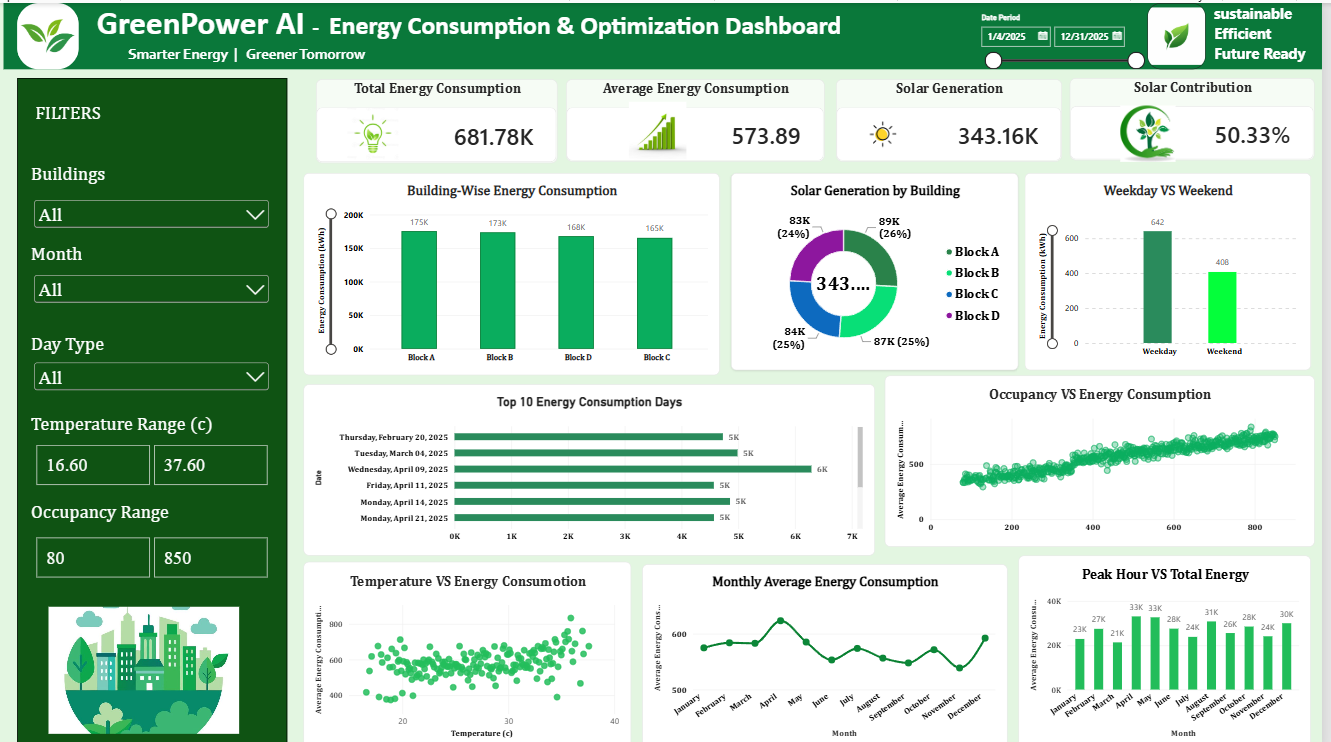

Layout of this report page (visuals, bound fields, positions):
{"tool":"powerbi","page":{"name":"Page 1","canvas":[1920,1080],"ordinal":0},"visuals":[{"type":"shape","box":[30.9,109.1,390.9,970.9],"z":0},{"type":"cardVisual","title":"Total Energy Consumption","fields":{"Data":["Sum(public energy_data.energy_consumption_kwh)"]},"box":[463.3,110.4,349.3,121.2],"z":1000},{"type":"clusteredColumnChart","title":"Building-Wise Energy Consumption","fields":{"Category":["public energy_data.building"],"Y":["Sum(public energy_data.energy_consumption_kwh)"]},"box":[445.2,246.1,602.6,293.2],"z":2000},{"type":"clusteredColumnChart","title":"Weekday VS Weekend","fields":{"Category":["public energy_data.day_type"],"Y":["Avg(public energy_data.energy_consumption_kwh)"]},"box":[1489.4,246.1,414.4,285.9],"z":3000},{"type":"scatterChart","title":"Temperature VS Energy Consumotion","fields":{"X":["public energy_data.temperature_c"],"Y":["Avg(public energy_data.energy_consumption_kwh)"]},"box":[445.2,808.9,474.1,271.4],"z":4000},{"type":"scatterChart","title":"Occupancy VS Energy Consumption","fields":{"X":["public energy_data.occupancy"],"Y":["Avg(public energy_data.energy_consumption_kwh)"]},"box":[1286.7,539.3,622.5,247.9],"z":5000},{"type":"columnChart","title":"Peak Hour VS Total Energy","fields":{"Category":["public energy_data.date.Variation.Date Hierarchy.Month"],"Y":["Sum(public energy_data.peak_hour_consumption_kwh)"]},"box":[1480.3,799.9,423.5,280.5],"z":6000},{"type":"donutChart","title":"Solar Generation by Building","fields":{"Category":["public energy_data.building"],"Y":["Sum(public energy_data.solar_generation_kwh)"]},"box":[1064.1,246.1,416.2,285.9],"z":7000},{"type":"lineChart","title":"Monthly Average Energy Consumption","fields":{"Category":["public energy_data.date.Variation.Date Hierarchy.Month"],"Y":["Avg(public energy_data.energy_consumption_kwh)"]},"box":[935.6,812.5,528.4,267.8],"z":8000},{"type":"clusteredBarChart","title":"Top 10 Energy Consumption Days","fields":{"Category":["public energy_data.date"],"Y":["Sum(public energy_data.energy_consumption_kwh)"]},"box":[445.2,551.9,827,247.9],"z":9000},{"type":"textbox","box":[1140.1,799.9,414,227],"z":10000},{"type":"textbox","box":[10.9,0,1909.2,95.9],"z":11000},{"type":"image","box":[30.8,0,88.7,95.9],"z":12000},{"type":"textbox","box":[164.7,61.5,595.4,34.4],"z":13000},{"type":"textbox","box":[1751.8,0,157.4,95.9],"z":14000},{"type":"image","box":[1666.7,0,85.1,95.9],"z":15000},{"type":"slicer","fields":{"Values":["public energy_data.date"]},"box":[1418.8,14.5,247.9,81.4],"z":16000},{"type":"image","box":[501.3,152,88.7,74.2],"z":17000},{"type":"cardVisual","title":"Average Energy Consumption","fields":{"Data":["Avg(public energy_data.energy_consumption_kwh)"]},"box":[825.2,110.4,374.6,119.4],"z":18000},{"type":"image","box":[913.9,143,88.7,83.2],"z":19000},{"type":"cardVisual","title":"Solar Generation","fields":{"Data":["Sum(public energy_data.solar_generation_kwh)"]},"box":[1216.1,110.4,327.5,119.4],"z":20000},{"type":"image","box":[1237.8,146.6,95.9,85.1],"z":21000},{"type":"cardVisual","title":"Solar Contribution","fields":{"Data":["public energy_data.Solar Contribution %"]},"box":[1554.5,108.6,354.7,119.4],"z":22000},{"type":"image","box":[1619.6,148.4,95.9,81.4],"z":23000},{"type":"textbox","box":[30.9,143.6,369.1,61.8],"z":24000},{"type":"textbox","box":[50.9,232.7,349.1,74.5],"z":25000},{"type":"slicer","fields":{"Values":["public energy_data.building"]},"box":[50.9,280,349.1,69.1],"z":26000},{"type":"slicer","fields":{"Values":["public energy_data.date.Variation.Date Hierarchy.Month"]},"box":[50.9,389.1,349.1,76.4],"z":27000},{"type":"textbox","box":[50.9,349.1,349.1,40],"z":28000},{"type":"textbox","box":[50.9,480,349.1,50.9],"z":29000},{"type":"slicer","fields":{"Values":["public energy_data.day_type"]},"box":[50.9,516.4,349.1,63.6],"z":30000},{"type":"textbox","box":[50.9,594.5,349.1,54.5],"z":31000},{"type":"slicer","fields":{"Values":["public energy_data.temperature_c"]},"box":[50,636,350,72],"z":32000},{"type":"textbox","box":[50.9,721.8,349.1,47.3],"z":33000},{"type":"slicer","fields":{"Values":["public energy_data.occupancy"]},"box":[50,770,350,70],"z":34000},{"type":"image","box":[76,874,276,184],"z":35000}]}

Visuals, with their boxes in screenshot pixels (x1, y1, x2, y2), scaled from the page's 1920x1080 canvas onto the 1331x742 screenshot:
shape: [x1=21, y1=75, x2=292, y2=741]
"Total Energy Consumption" cardVisual: [x1=321, y1=76, x2=563, y2=159]
"Building-Wise Energy Consumption" clusteredColumnChart: [x1=309, y1=169, x2=726, y2=371]
"Weekday VS Weekend" clusteredColumnChart: [x1=1032, y1=169, x2=1320, y2=366]
"Temperature VS Energy Consumotion" scatterChart: [x1=309, y1=556, x2=637, y2=741]
"Occupancy VS Energy Consumption" scatterChart: [x1=892, y1=371, x2=1324, y2=541]
"Peak Hour VS Total Energy" columnChart: [x1=1026, y1=550, x2=1320, y2=741]
"Solar Generation by Building" donutChart: [x1=738, y1=169, x2=1026, y2=366]
"Monthly Average Energy Consumption" lineChart: [x1=649, y1=558, x2=1015, y2=741]
"Top 10 Energy Consumption Days" clusteredBarChart: [x1=309, y1=379, x2=882, y2=549]
textbox: [x1=790, y1=550, x2=1077, y2=706]
textbox: [x1=8, y1=0, x2=1330, y2=66]
image: [x1=21, y1=0, x2=83, y2=66]
textbox: [x1=114, y1=42, x2=527, y2=66]
textbox: [x1=1214, y1=0, x2=1324, y2=66]
image: [x1=1155, y1=0, x2=1214, y2=66]
slicer - public energy_data.date: [x1=984, y1=10, x2=1155, y2=66]
image: [x1=348, y1=104, x2=409, y2=155]
"Average Energy Consumption" cardVisual: [x1=572, y1=76, x2=832, y2=158]
image: [x1=634, y1=98, x2=695, y2=155]
"Solar Generation" cardVisual: [x1=843, y1=76, x2=1070, y2=158]
image: [x1=858, y1=101, x2=925, y2=159]
"Solar Contribution" cardVisual: [x1=1078, y1=75, x2=1324, y2=157]
image: [x1=1123, y1=102, x2=1189, y2=158]
textbox: [x1=21, y1=99, x2=277, y2=141]
textbox: [x1=35, y1=160, x2=277, y2=211]
slicer - public energy_data.building: [x1=35, y1=192, x2=277, y2=240]
slicer - public energy_data.date.Variation.Date Hierarchy.Month: [x1=35, y1=267, x2=277, y2=320]
textbox: [x1=35, y1=240, x2=277, y2=267]
textbox: [x1=35, y1=330, x2=277, y2=365]
slicer - public energy_data.day_type: [x1=35, y1=355, x2=277, y2=398]
textbox: [x1=35, y1=408, x2=277, y2=446]
slicer - public energy_data.temperature_c: [x1=35, y1=437, x2=277, y2=486]
textbox: [x1=35, y1=496, x2=277, y2=528]
slicer - public energy_data.occupancy: [x1=35, y1=529, x2=277, y2=577]
image: [x1=53, y1=600, x2=244, y2=727]
